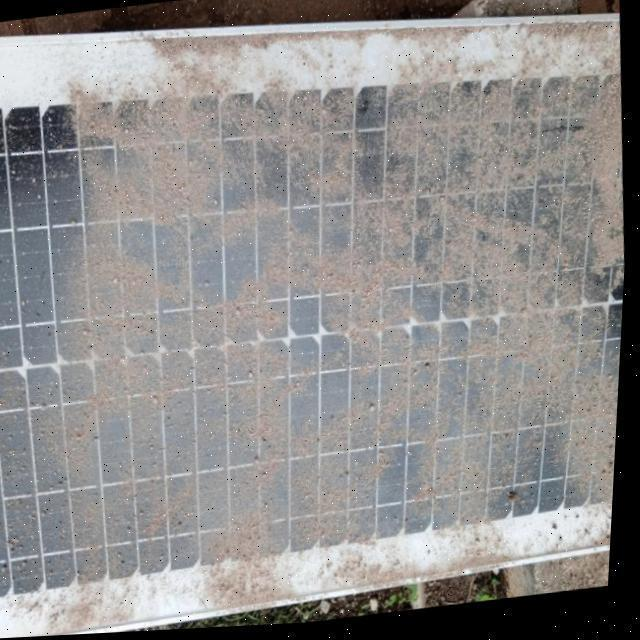Surface Contaminant: (48, 24, 627, 601)
